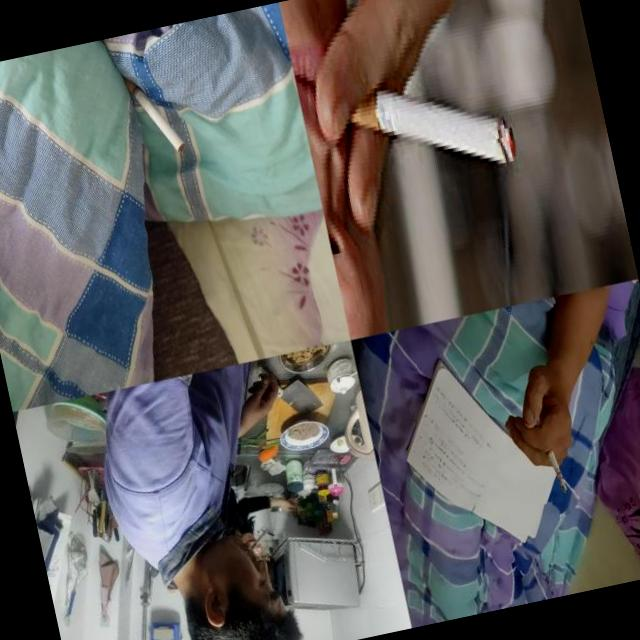smoke: (320, 44, 520, 203), (116, 59, 188, 162), (540, 436, 568, 496), (247, 530, 269, 552)
